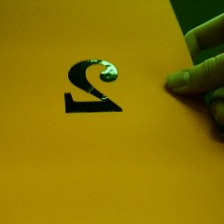orange2: (56, 52, 130, 116)
